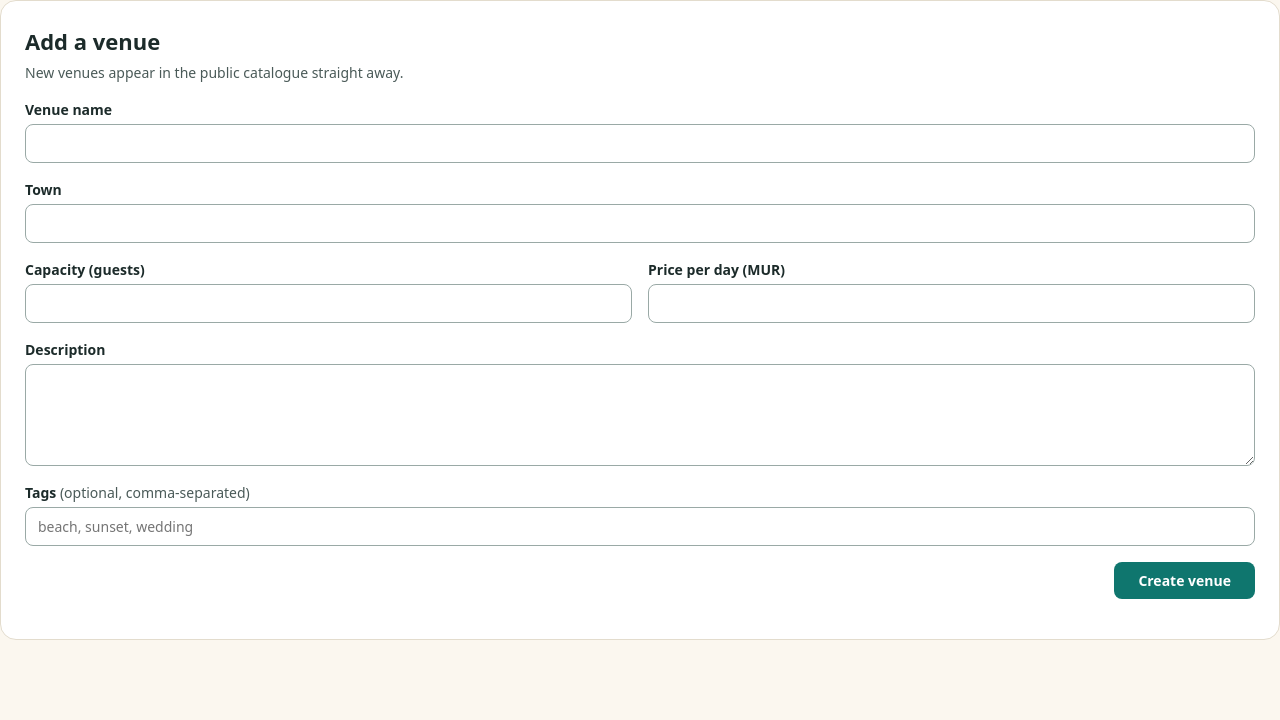
CreateVenueForm: submit › shows the server error and keeps what was typed
Type "  Tamarin Bay Boathouse  " into the field labelled "Venue name" at point(640, 144), box [25,124,1255,163]
Type "Tamarin" into the field labelled "Town" at point(640, 224), box [25,204,1255,243]
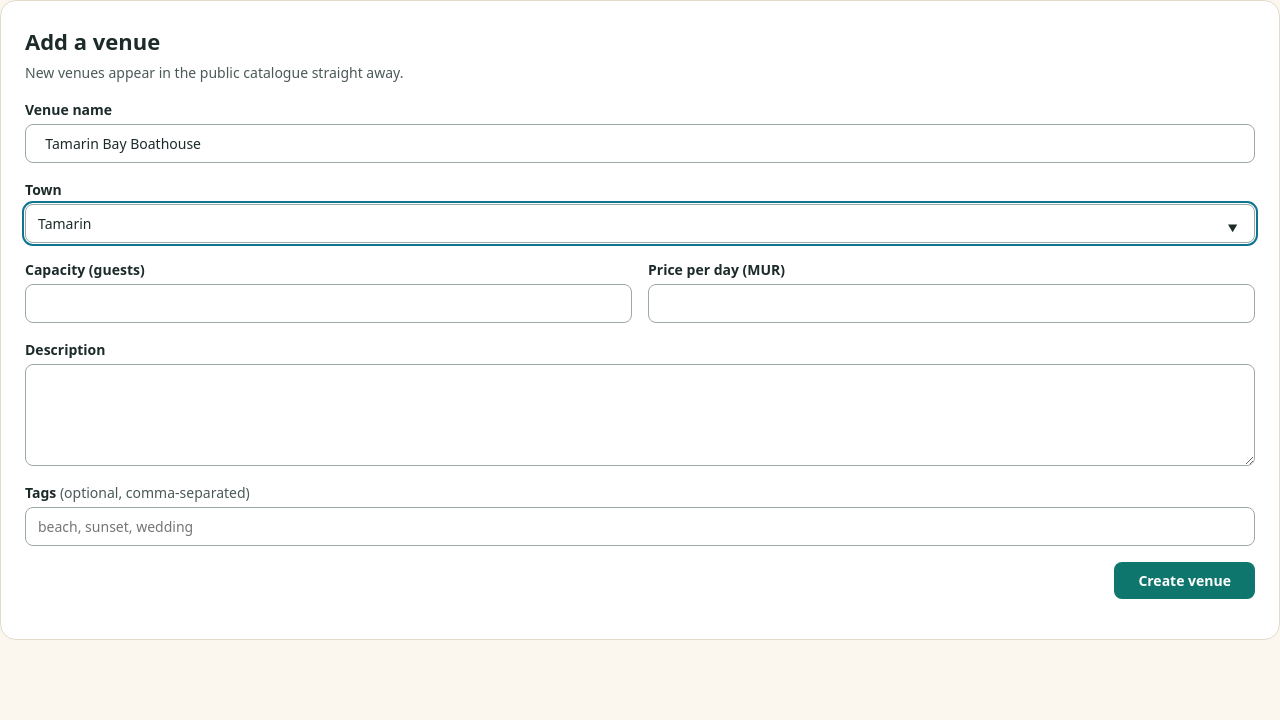
Type "120" into the field labelled "Capacity (guests)" at point(328, 304), box [25,284,632,323]
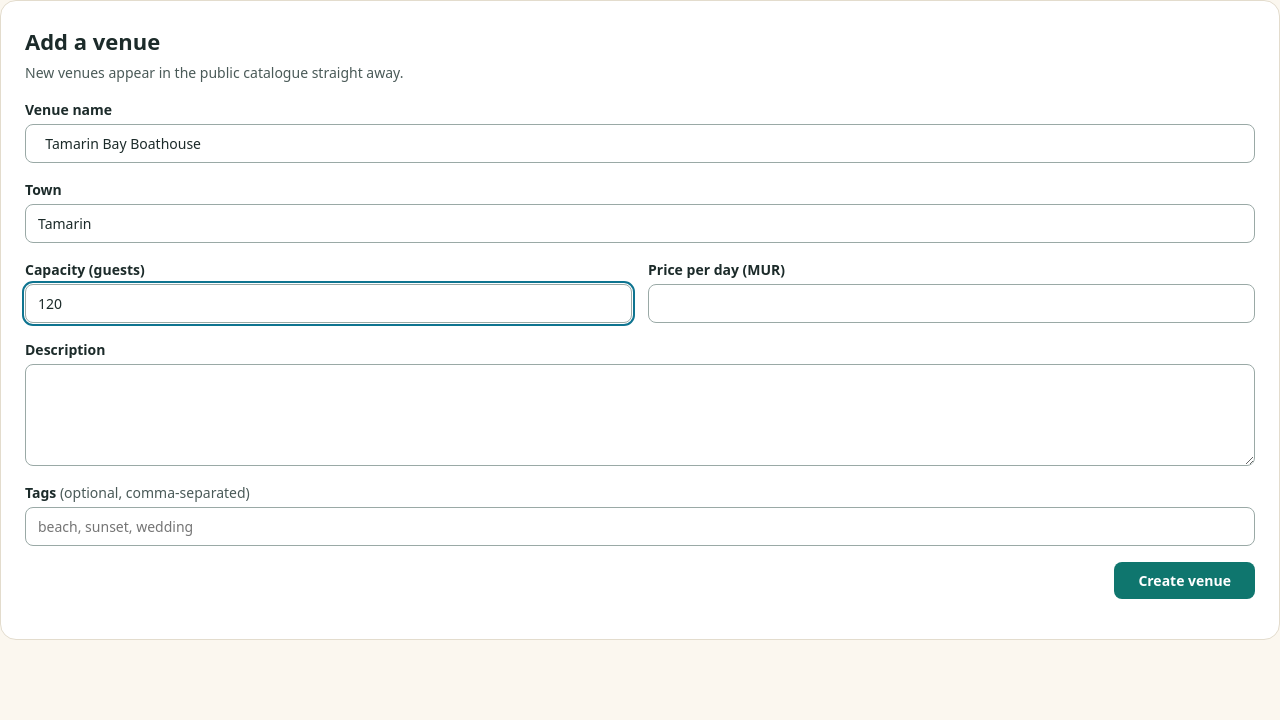
Type "85000" into the field labelled "Price per day (MUR)" at point(952, 304), box [648,284,1255,323]
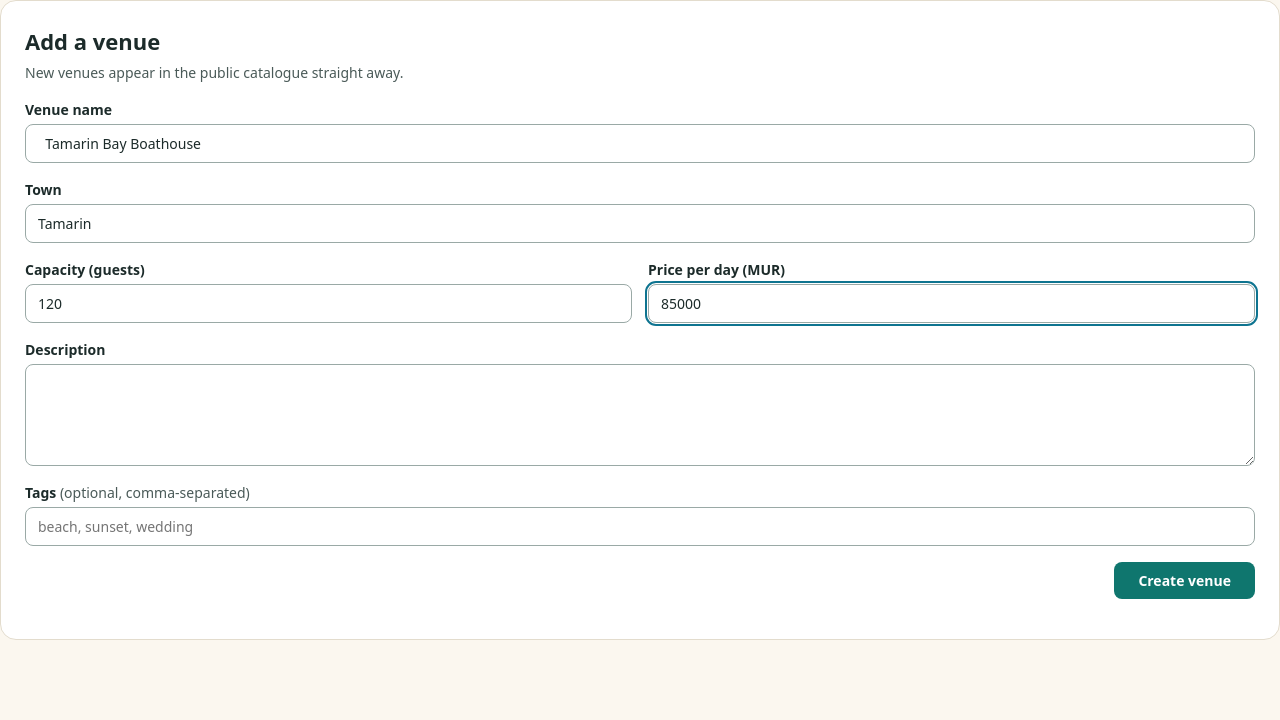
Type "Open-sided boathouse on the bay, sunset views." into the text box labelled "Description" at point(640, 415), box [25,364,1255,466]
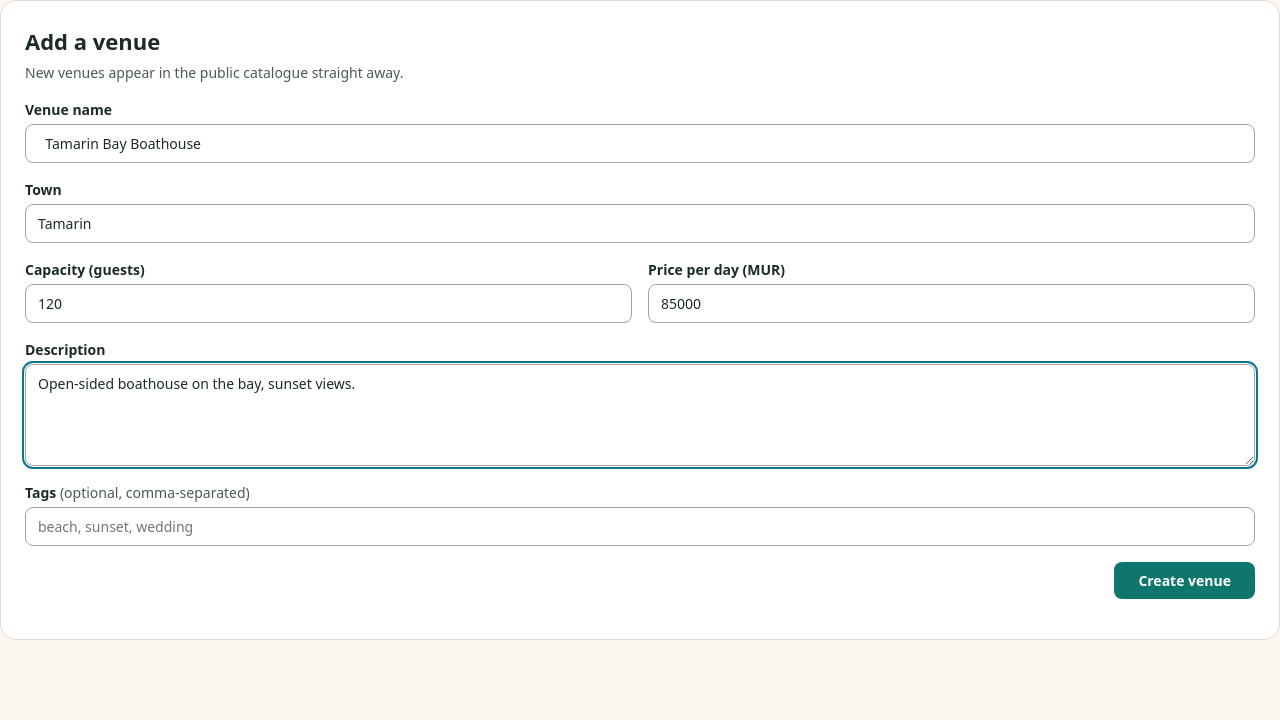
Type "Beach, sunset, beach ,  wedding" into the field labelled "Tags (optional, comma-separated)" at point(640, 526), box [25,507,1255,546]
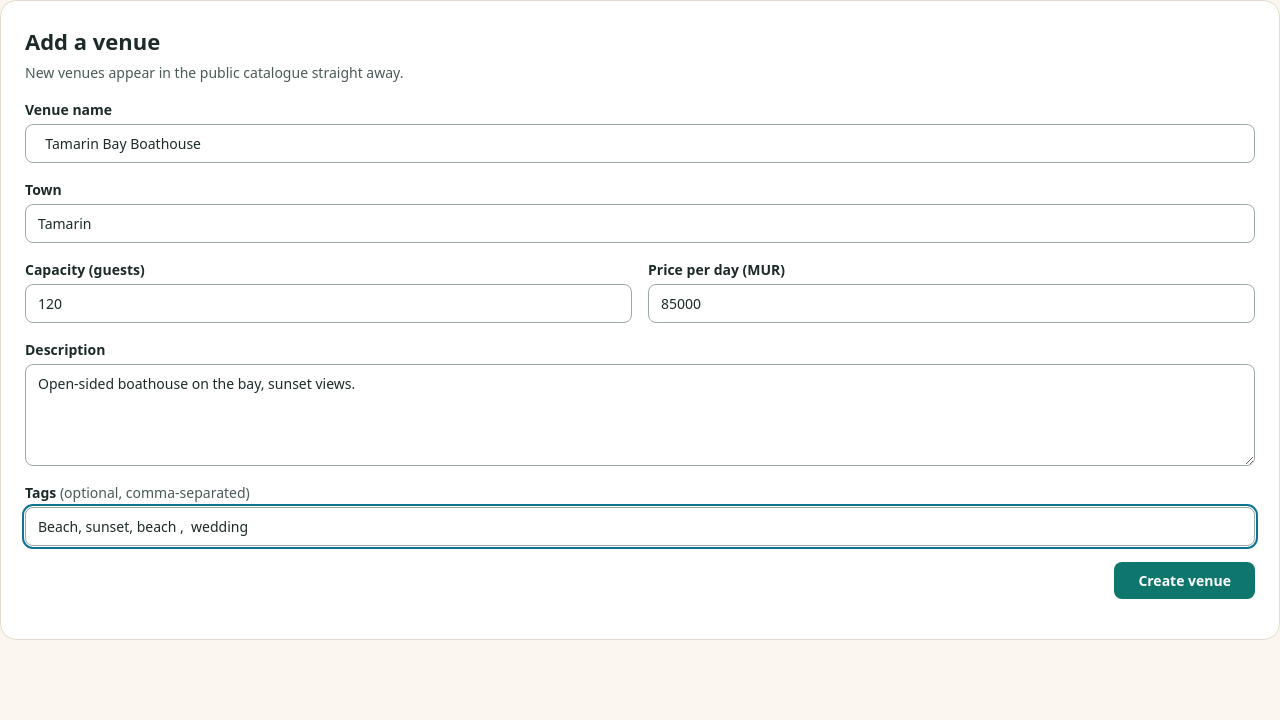
Click the button "Create venue" at point(1185, 580), box [1114,562,1255,599]
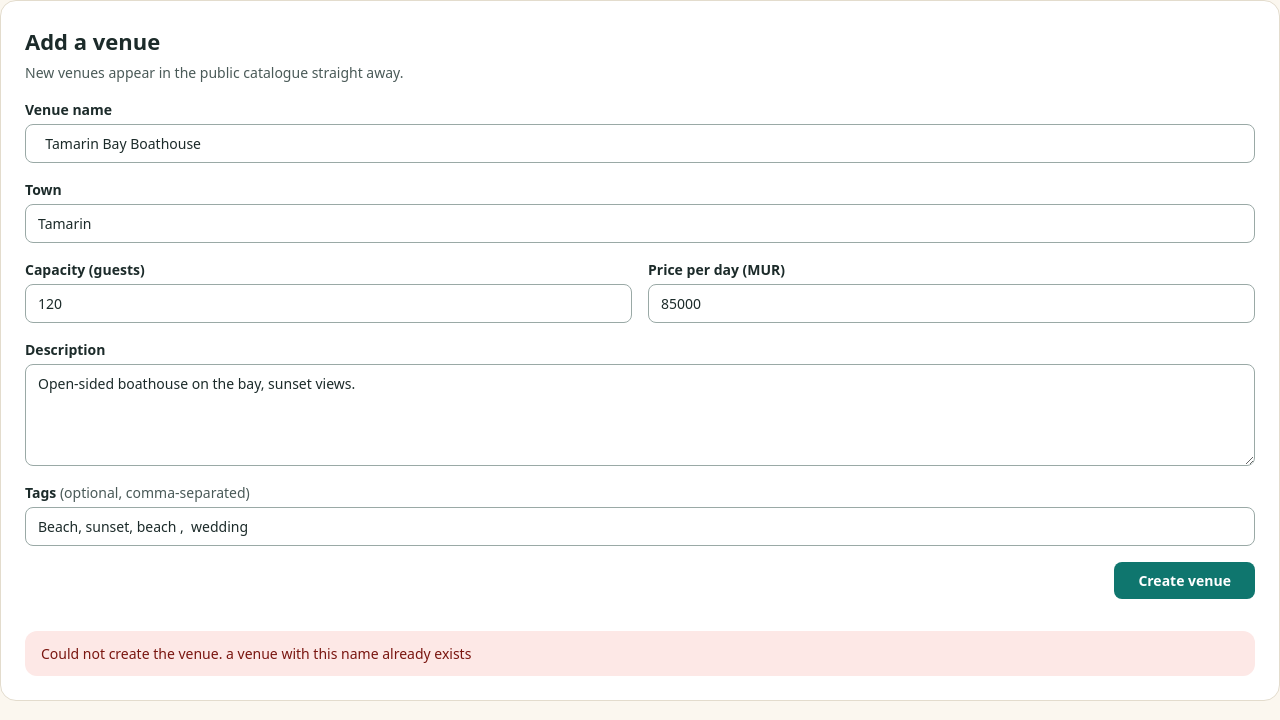
Expected: the message reads "Could not create the venue. a venue with this name already exists", [25,631,1255,676]
